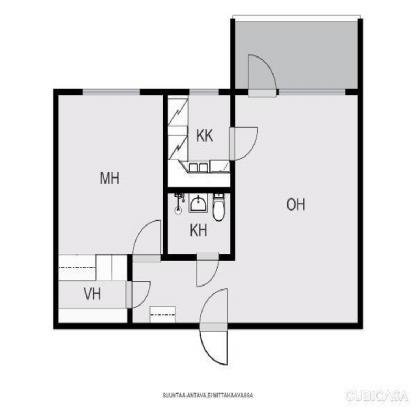door: (197, 286, 233, 368), (225, 124, 267, 166), (130, 218, 164, 262), (248, 56, 278, 98), (195, 253, 218, 286), (125, 280, 152, 308)
window: (189, 86, 218, 99), (83, 90, 140, 96), (276, 90, 344, 94)
zone: (234, 93, 358, 323), (60, 95, 162, 254), (236, 20, 358, 90), (129, 254, 235, 324), (168, 95, 231, 187), (56, 253, 128, 323), (168, 193, 231, 252)
